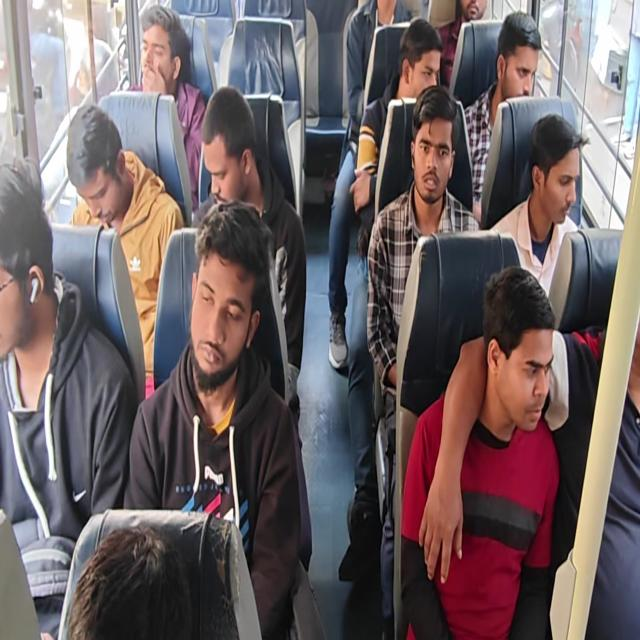person: (1, 1, 638, 638), (122, 198, 312, 638), (0, 156, 138, 638), (365, 84, 481, 637), (335, 11, 444, 580), (399, 266, 560, 638), (191, 85, 312, 573), (66, 103, 184, 400), (328, 0, 418, 370), (349, 17, 443, 262), (487, 112, 589, 298), (462, 10, 542, 222), (126, 4, 207, 210), (66, 523, 193, 639), (341, 0, 415, 166), (435, 0, 488, 89)
